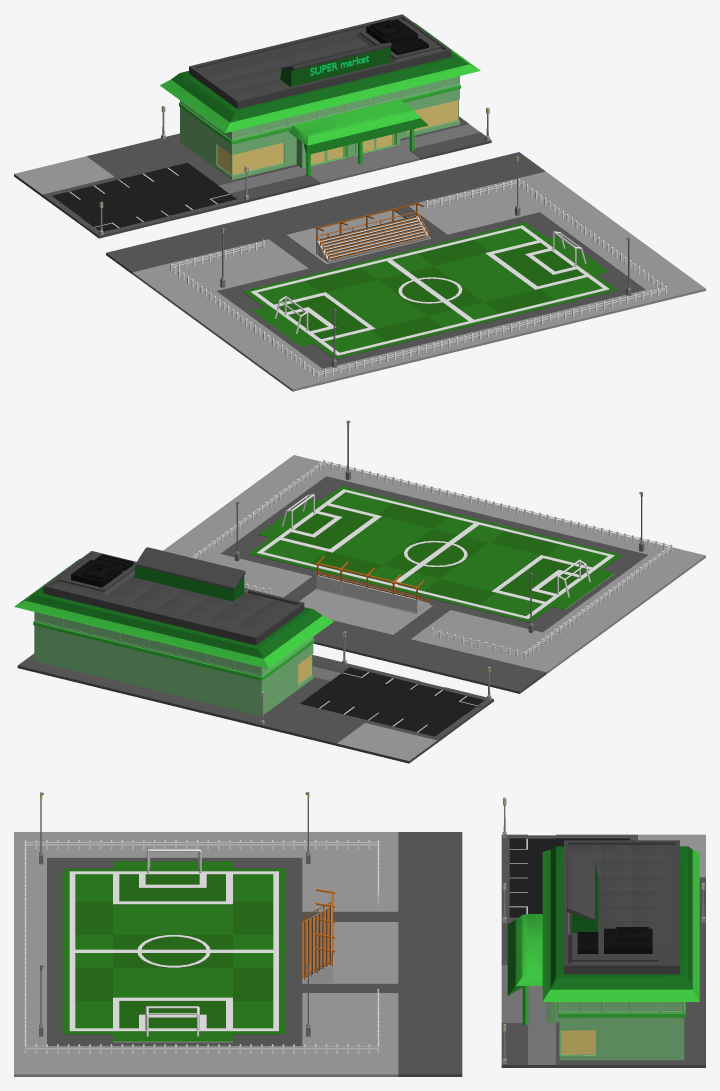
Rendered from ffield.obj.
The picture shows the model from 3 angles, top to bottom: view 1: azimuth 30°, elevation 25°; view 2: azimuth 150°, elevation 25°; view 3: azimuth 270°, elevation 25°; orthographic projection. The views are drawn at different scales.
Parts seen in each view (by area): view 1: World.FotballField_Hus5.6_0; view 2: World.FotballField_Hus5.6_0; view 3: World.FotballField_Hus5.6_0.
Part boxes in pixels (x1,y1,x2,y2): World.FotballField_Hus5.6_0: (14,14,705,391); World.FotballField_Hus5.6_0: (14,420,705,763); World.FotballField_Hus5.6_0: (14,792,705,1076).
Size of the model in its own units: 61.26 by 13.99 by 73.98.
